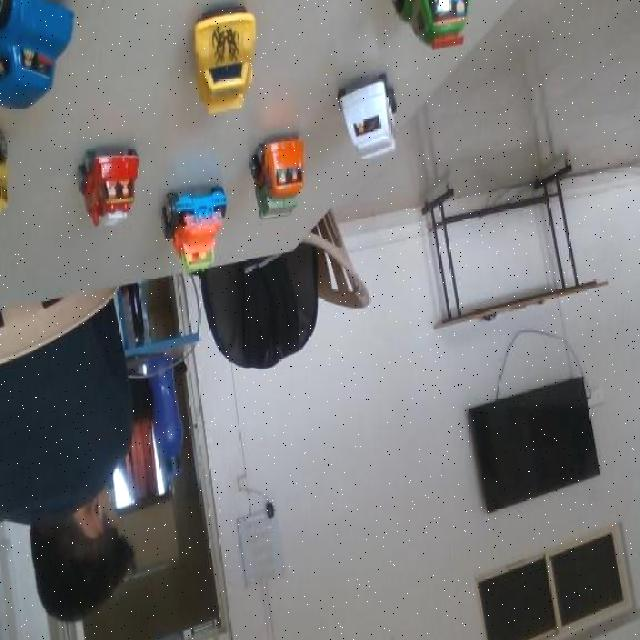car: (150, 0, 317, 127), (348, 0, 559, 96), (321, 46, 435, 186), (148, 180, 234, 290), (247, 112, 319, 240), (0, 0, 80, 107), (83, 136, 150, 230), (0, 126, 22, 206)
